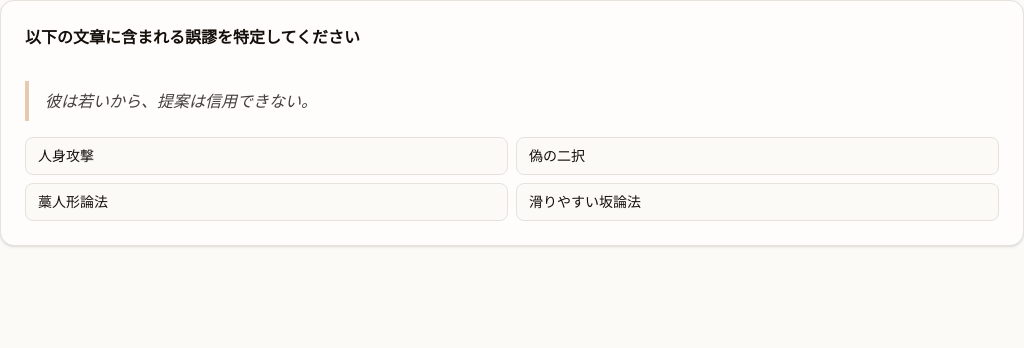
Test: FallacySpotterQuiz › shows correct feedback on right answer
The width and height of the screenshot is (1024, 348).
Click the button "人身攻撃": (66, 156) left=25, top=137, right=508, bottom=175
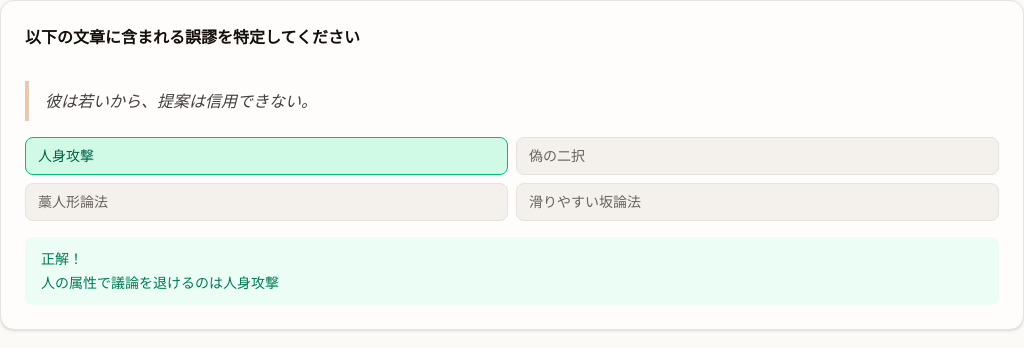
Now the text "正解！ 人の属性で議論を退けるのは人身攻撃" is shown, box left=25, top=237, right=999, bottom=305
